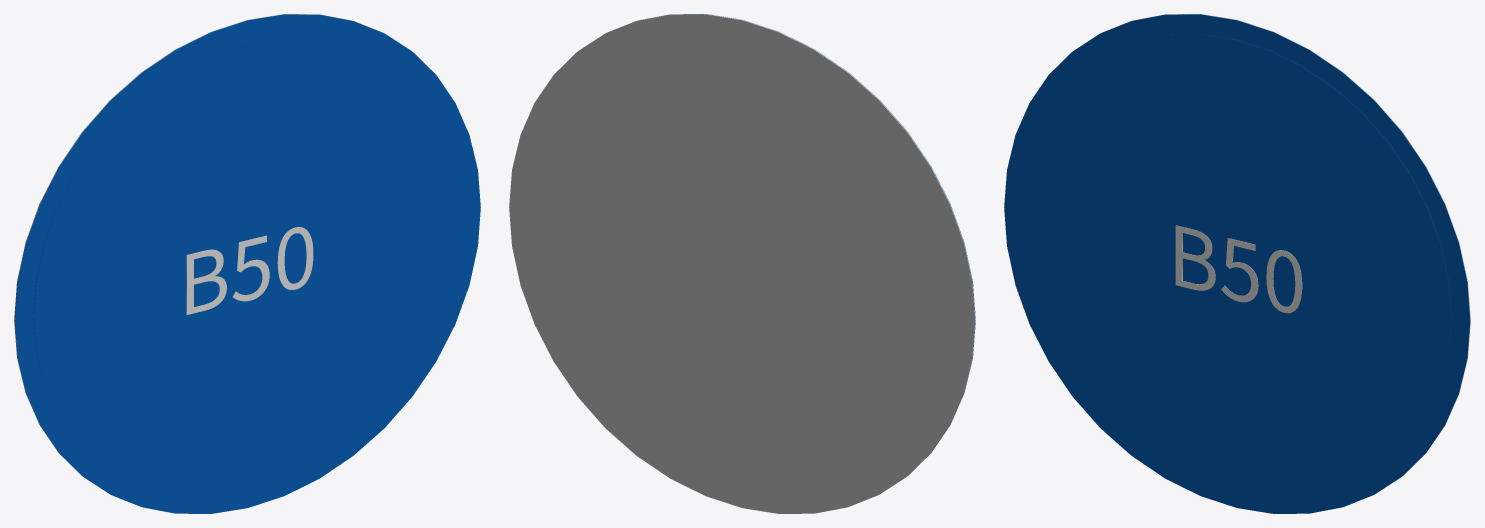
The picture shows the model from 3 angles, left to right: view 1: azimuth 30°, elevation 25°; view 2: azimuth 150°, elevation 25°; view 3: azimuth 330°, elevation 25°; orthographic projection.
Visible parts, largest first — view 1: B50_int01, B50_ext00, B50_txt02, B50_dos; view 2: B50_dos; view 3: B50_int01, B50_ext00, B50_txt02, B50_dos.
Part boxes in pixels (x1=…): B50_int01: x1=33, y1=34, x2=462, y2=493; B50_ext00: x1=14, y1=14, x2=480, y2=513; B50_txt02: x1=186, y1=227, x2=313, y2=314; B50_dos: x1=14, y1=14, x2=383, y2=475; B50_dos: x1=509, y1=14, x2=975, y2=513; B50_int01: x1=1022, y1=34, x2=1451, y2=493; B50_ext00: x1=1004, y1=14, x2=1470, y2=513; B50_txt02: x1=1175, y1=225, x2=1302, y2=313; B50_dos: x1=1101, y1=14, x2=1470, y2=475.
Bounding box in the file's own units: 0.65 × 0.65 × 0.0025.
